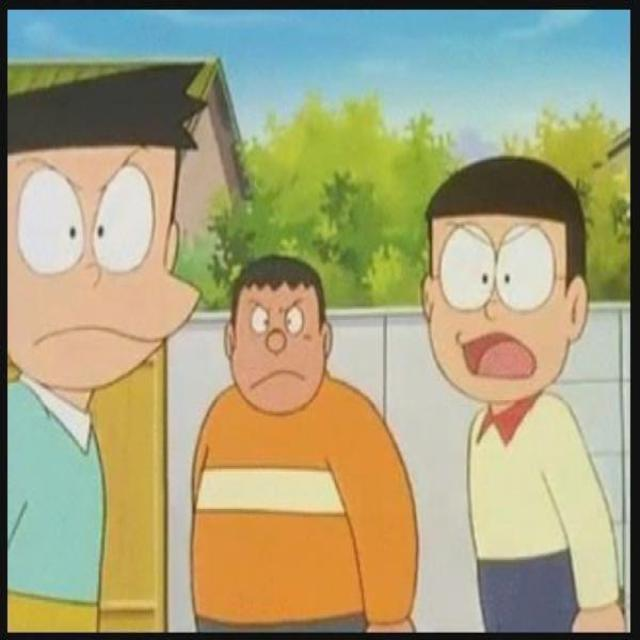jaian: (219, 241, 336, 418)
nobita: (417, 153, 594, 415)
